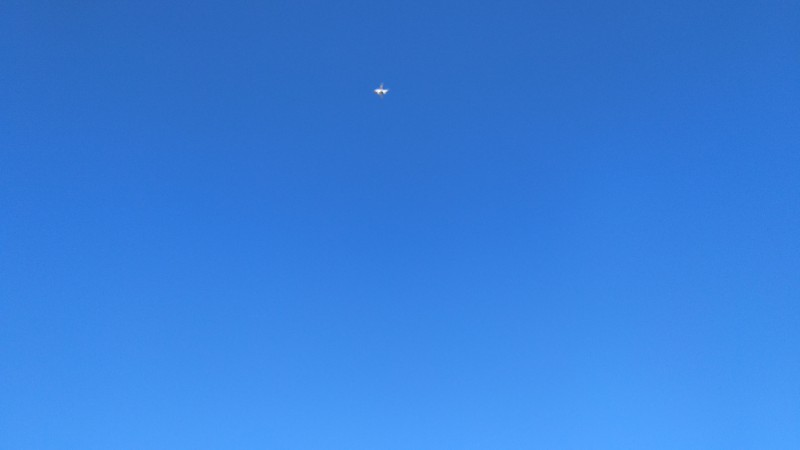drone: (372, 83, 391, 98)
